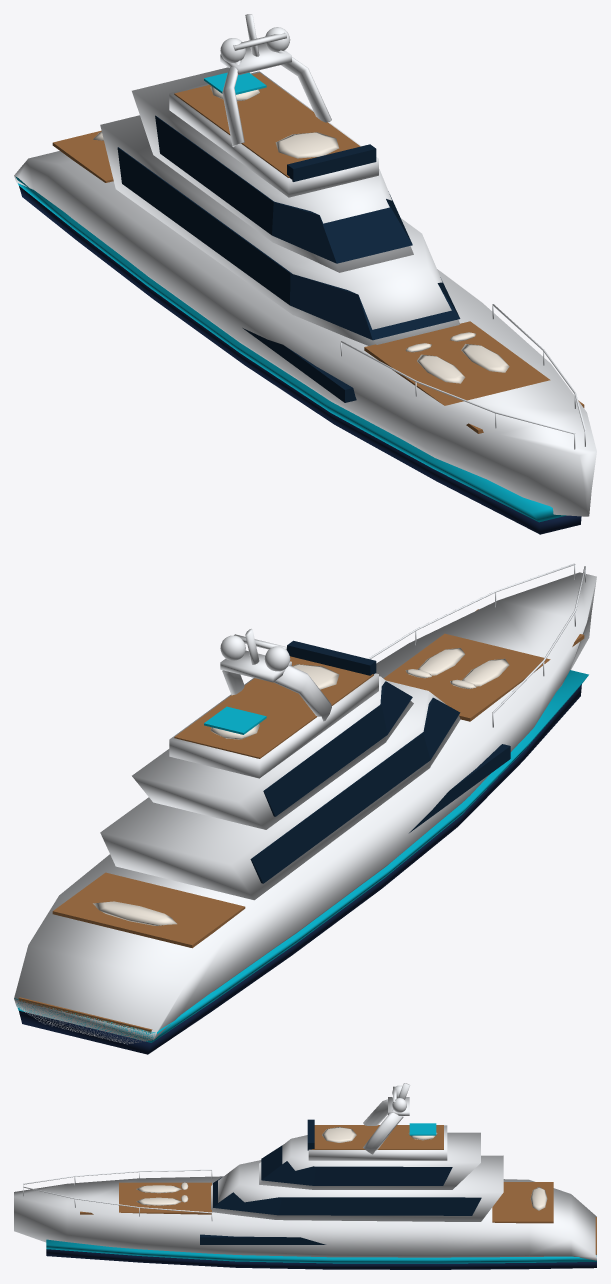
Rendered from yacht.glb.
The picture shows the model from 3 angles, top to bottom: view 1: azimuth 30°, elevation 25°; view 2: azimuth 150°, elevation 25°; view 3: azimuth 270°, elevation 25°; orthographic projection. The views are drawn at different scales.
Visible parts, largest first — view 1: Yacht_Superstructure, Yacht_Windows, Yacht_Sunpad_Deck, Yacht_Waterline, Yacht_Boot_Top, Yacht_Sunpads, Yacht_Bow_Rails, Yacht_Jacuzzi_Water; view 2: Yacht_Superstructure, Yacht_Sunpad_Deck, Yacht_Windows, Yacht_Boot_Top, Yacht_Waterline, Yacht_Sunpads, Yacht_Bow_Rails, Yacht_Jacuzzi_Water; view 3: Yacht_Superstructure, Yacht_Windows, Yacht_Sunpad_Deck, Yacht_Waterline, Yacht_Boot_Top, Yacht_Sunpads, Yacht_Bow_Rails, Yacht_Jacuzzi_Water.
Boxes of the visible parts, box(x1,y1,x2,y2) form: Yacht_Superstructure: box(14, 14, 596, 516); Yacht_Windows: box(117, 115, 460, 402); Yacht_Sunpad_Deck: box(52, 72, 584, 433); Yacht_Waterline: box(15, 176, 565, 522); Yacht_Boot_Top: box(19, 186, 581, 534); Yacht_Sunpads: box(93, 86, 509, 383); Yacht_Bow_Rails: box(340, 304, 585, 449); Yacht_Jacuzzi_Water: box(204, 72, 266, 94); Yacht_Superstructure: box(14, 572, 596, 1044); Yacht_Sunpad_Deck: box(18, 609, 584, 1033); Yacht_Windows: box(250, 640, 510, 883); Yacht_Boot_Top: box(19, 684, 581, 1054); Yacht_Waterline: box(14, 670, 588, 1042); Yacht_Sunpads: box(93, 648, 509, 925); Yacht_Bow_Rails: box(368, 563, 585, 727); Yacht_Jacuzzi_Water: box(204, 706, 266, 734); Yacht_Superstructure: box(14, 1083, 596, 1260); Yacht_Windows: box(200, 1119, 481, 1244); Yacht_Sunpad_Deck: box(80, 1125, 596, 1254); Yacht_Waterline: box(46, 1239, 596, 1263); Yacht_Boot_Top: box(46, 1249, 596, 1269); Yacht_Sunpads: box(136, 1127, 547, 1210); Yacht_Bow_Rails: box(23, 1169, 212, 1220); Yacht_Jacuzzi_Water: box(409, 1123, 436, 1135).
Size of the model in its own units: 7.36 by 11.47 by 36.2.
